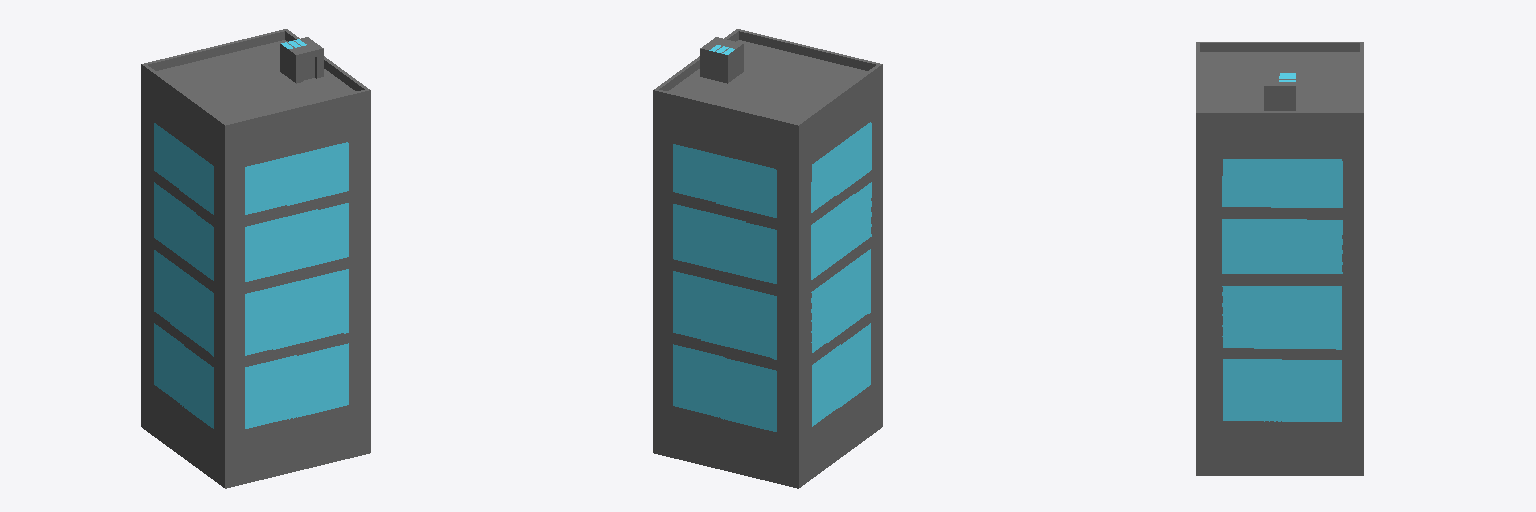
The picture shows the model from 3 angles: view 1: azimuth 30°, elevation 25°; view 2: azimuth 150°, elevation 25°; view 3: azimuth 270°, elevation 25°; orthographic projection.
Visible parts, largest first — view 1: Cube.001; view 2: Cube.001; view 3: Cube.001.
Boxes of the visible parts, x1=… form: Cube.001: x1=141, y1=29, x2=370, y2=488; Cube.001: x1=653, y1=29, x2=882, y2=488; Cube.001: x1=1196, y1=42, x2=1363, y2=475.
Size of the model in its own units: 10.61 by 27.74 by 10.61.
Materials: 1 (1 with a texture image).